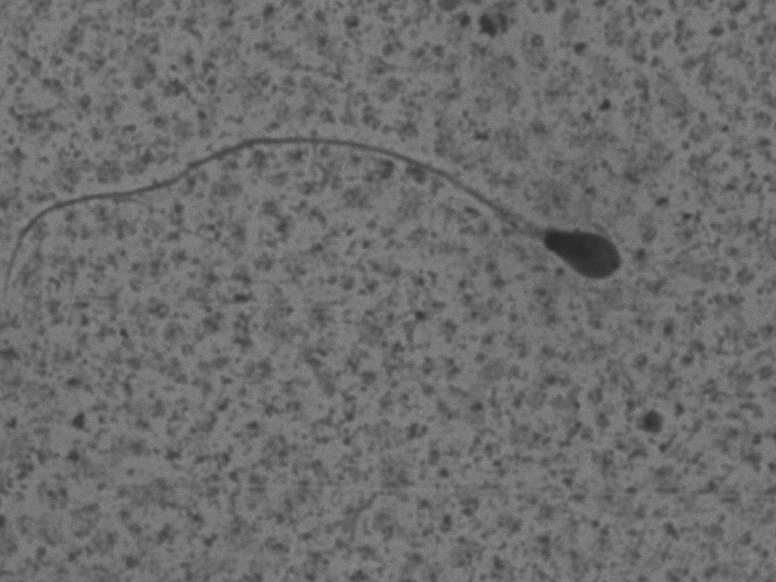Abnormal: (10, 103, 630, 351)
